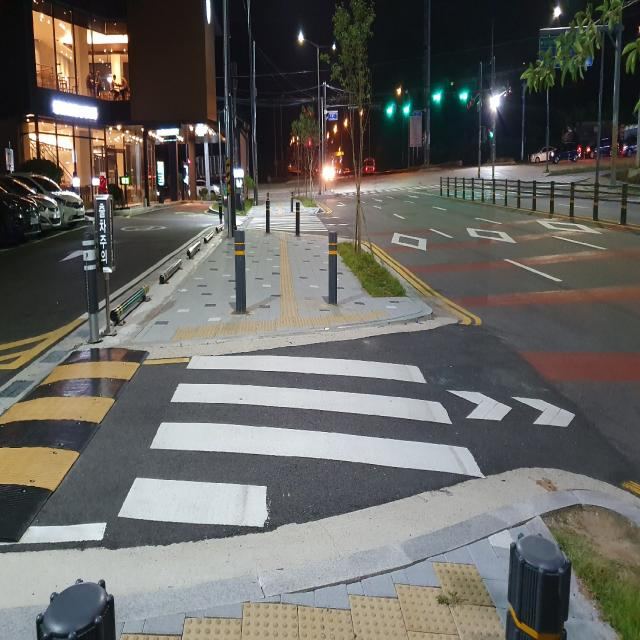횡단보도: (116, 353, 487, 530), (249, 191, 322, 238)
